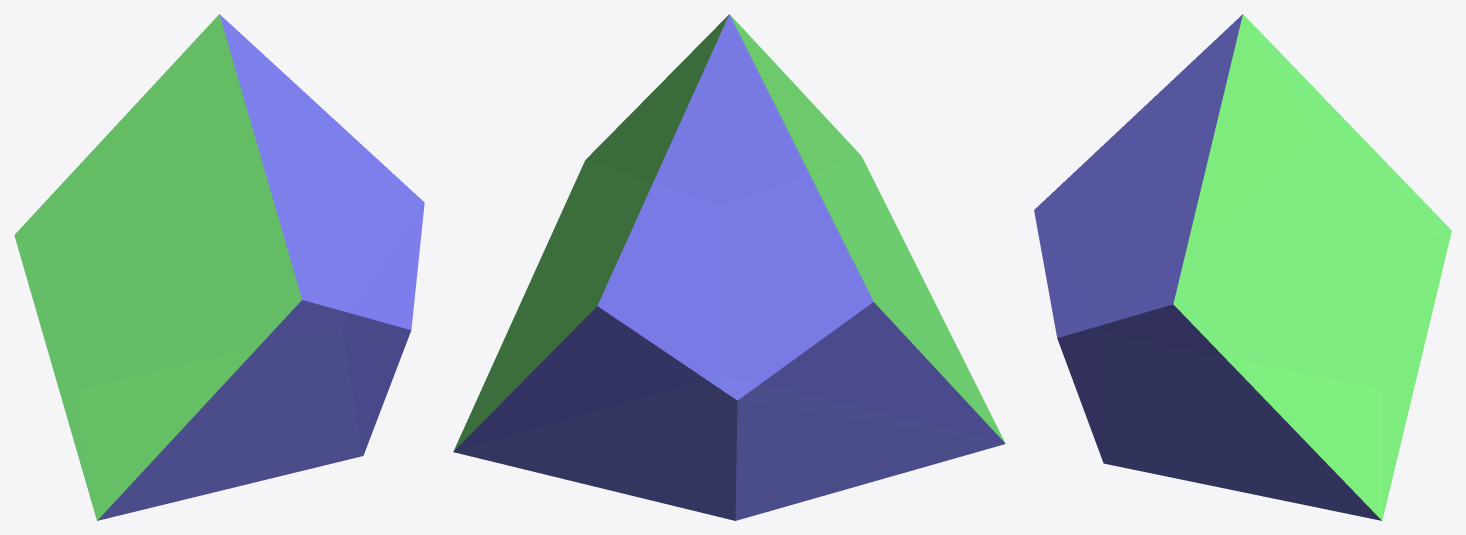
File: HerschelEnneahedron.obj
3 views of the same model, side by side, from view 1: azimuth 30°, elevation 25°; view 2: azimuth 150°, elevation 25°; view 3: azimuth 270°, elevation 25° (orthographic). The views are drawn at different scales.
Size of the model in its own units: 7.37 by 7.52 by 6.9.
